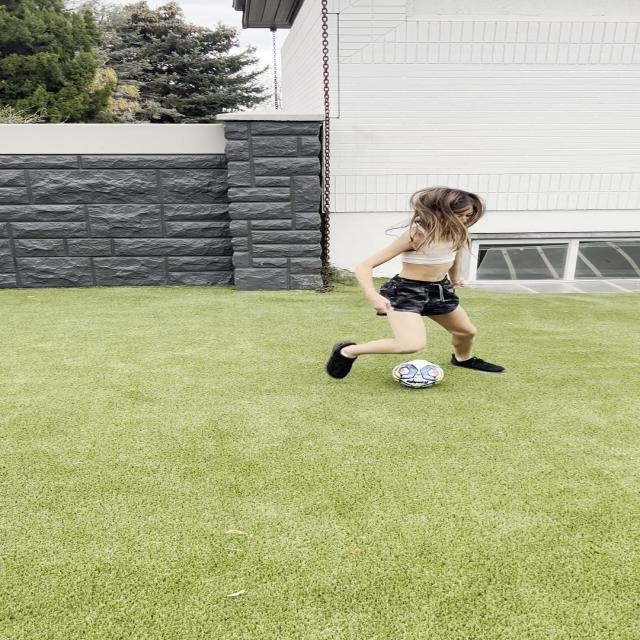Soccer Ball: (392, 359, 445, 388)
